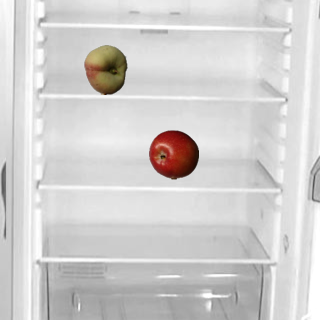Apple Braeburn: (148, 129, 198, 179)
Peach Flat: (80, 44, 130, 94)
